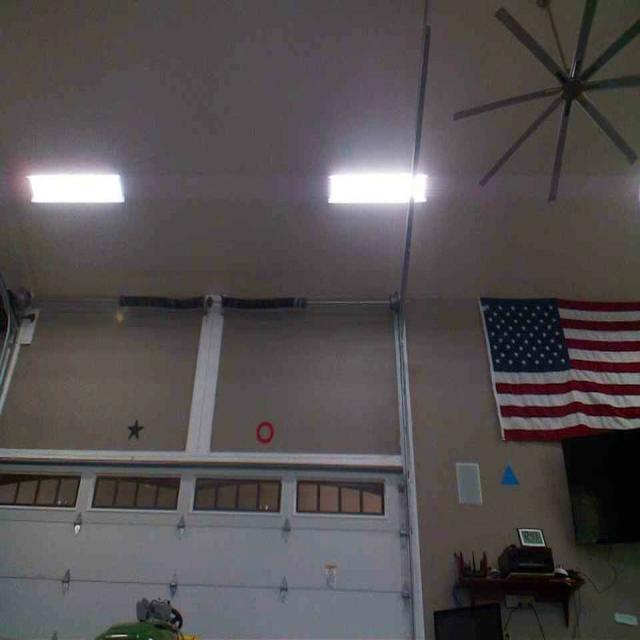ring_red: (256, 420, 276, 442)
triangle_black: (125, 418, 144, 440)
triangle_blue: (500, 461, 520, 487)
